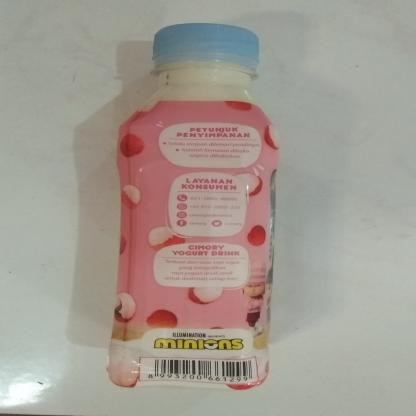bottle: (103, 18, 284, 398)
